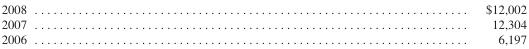table: (0, 1, 525, 45)
table column: (255, 1, 525, 45), (0, 1, 255, 45)
table row: (0, 1, 525, 16), (0, 16, 525, 31), (0, 31, 525, 45)
